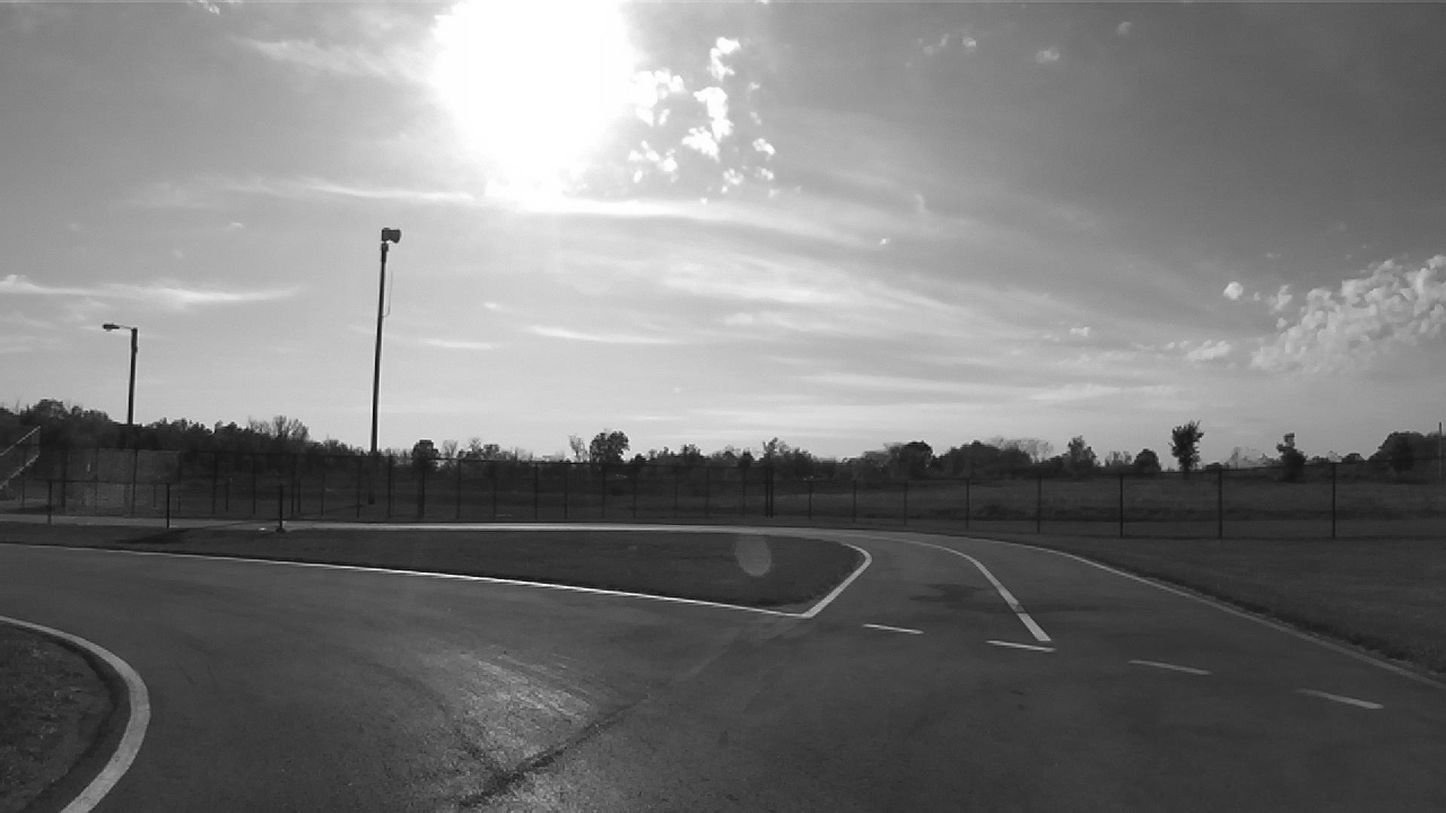white-line: (102, 544, 872, 619), (0, 615, 150, 812), (939, 547, 1049, 640), (1296, 688, 1383, 709), (1127, 659, 1210, 675), (986, 639, 1054, 652), (863, 623, 923, 633)
